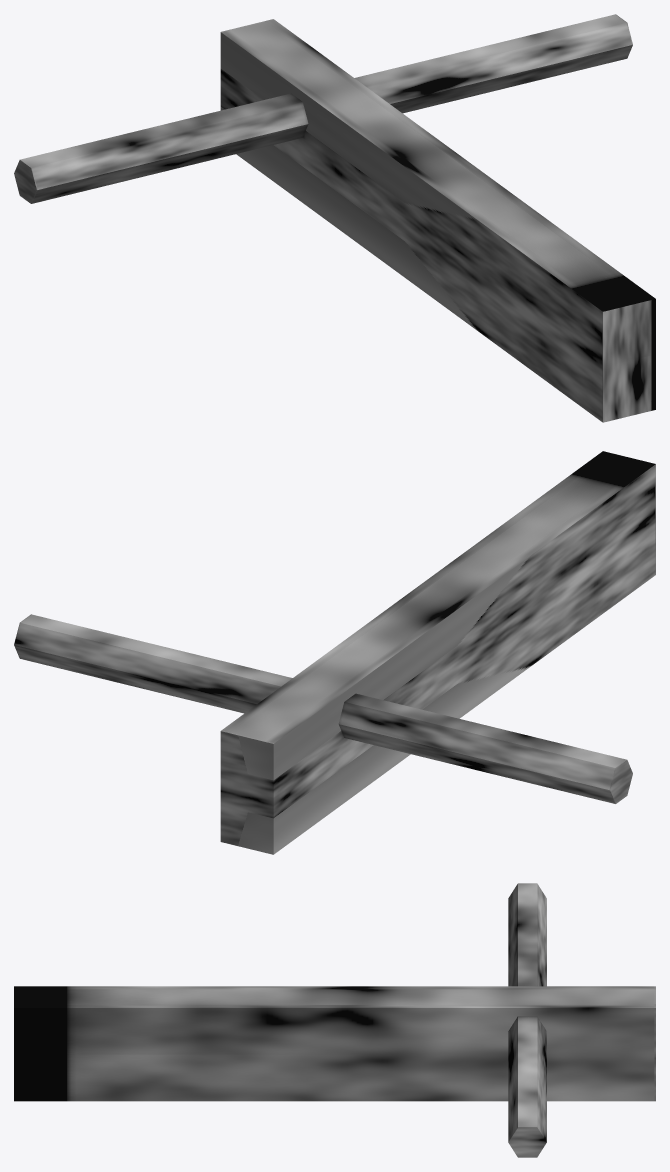
The model's file is crossbow.glb.
The picture shows the model from 3 angles, top to bottom: view 1: azimuth 30°, elevation 25°; view 2: azimuth 150°, elevation 25°; view 3: azimuth 270°, elevation 25°; orthographic projection. The views are drawn at different scales.
Parts seen in each view (by area): view 1: crossbow; view 2: crossbow; view 3: crossbow.
Part boxes in pixels (left/top/right/bottom): crossbow: left=14, top=14, right=655, bottom=422; crossbow: left=14, top=451, right=655, bottom=854; crossbow: left=14, top=883, right=655, bottom=1157.
Bounding box in the file's own units: 0.45 × 0.08 × 0.5.
1 material, 1 textured.
